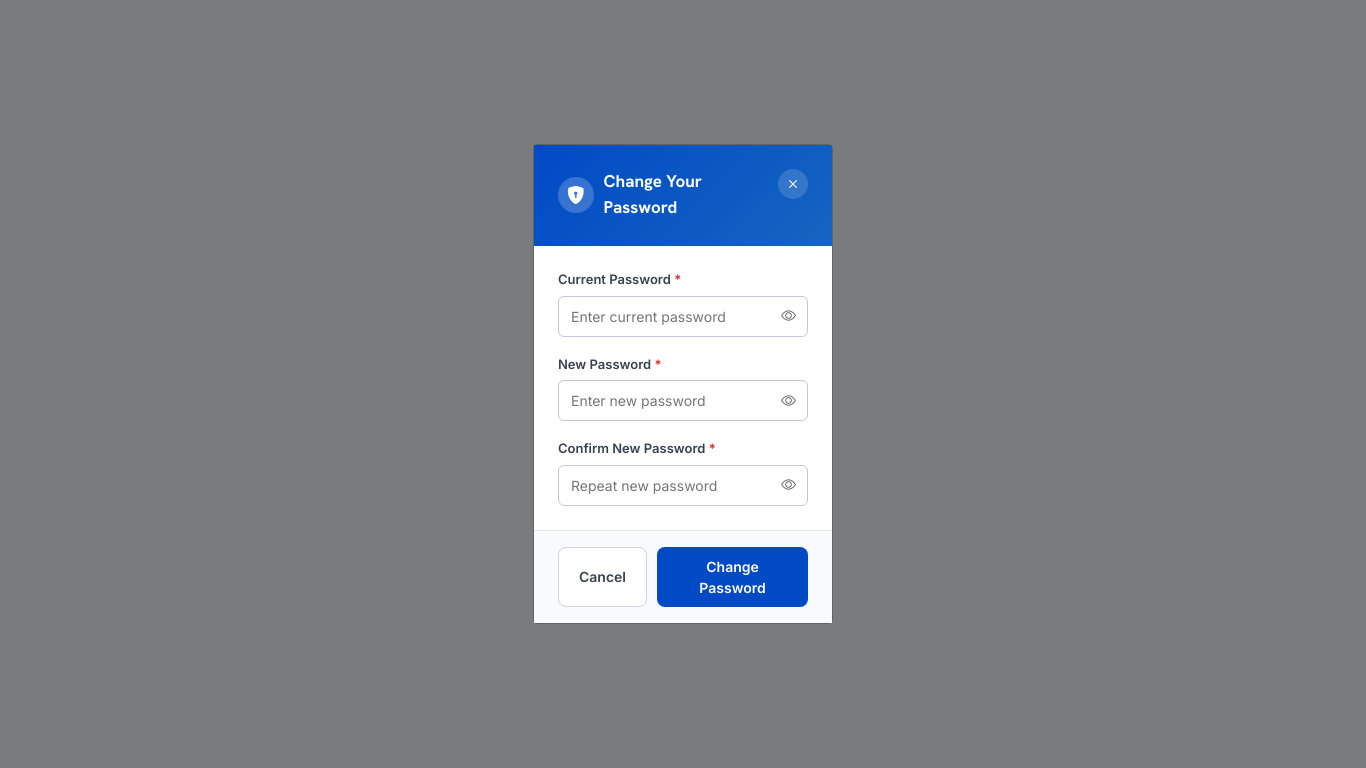
Scenario: ChangePasswordModal — self service › 401 (expired session) shows the server error instead of crashing
This screenshot has width=1366, height=768.
Type "old" into the password field with placeholder "Enter current password" at (683, 316), box x1=558 y1=296 x2=808 y2=337
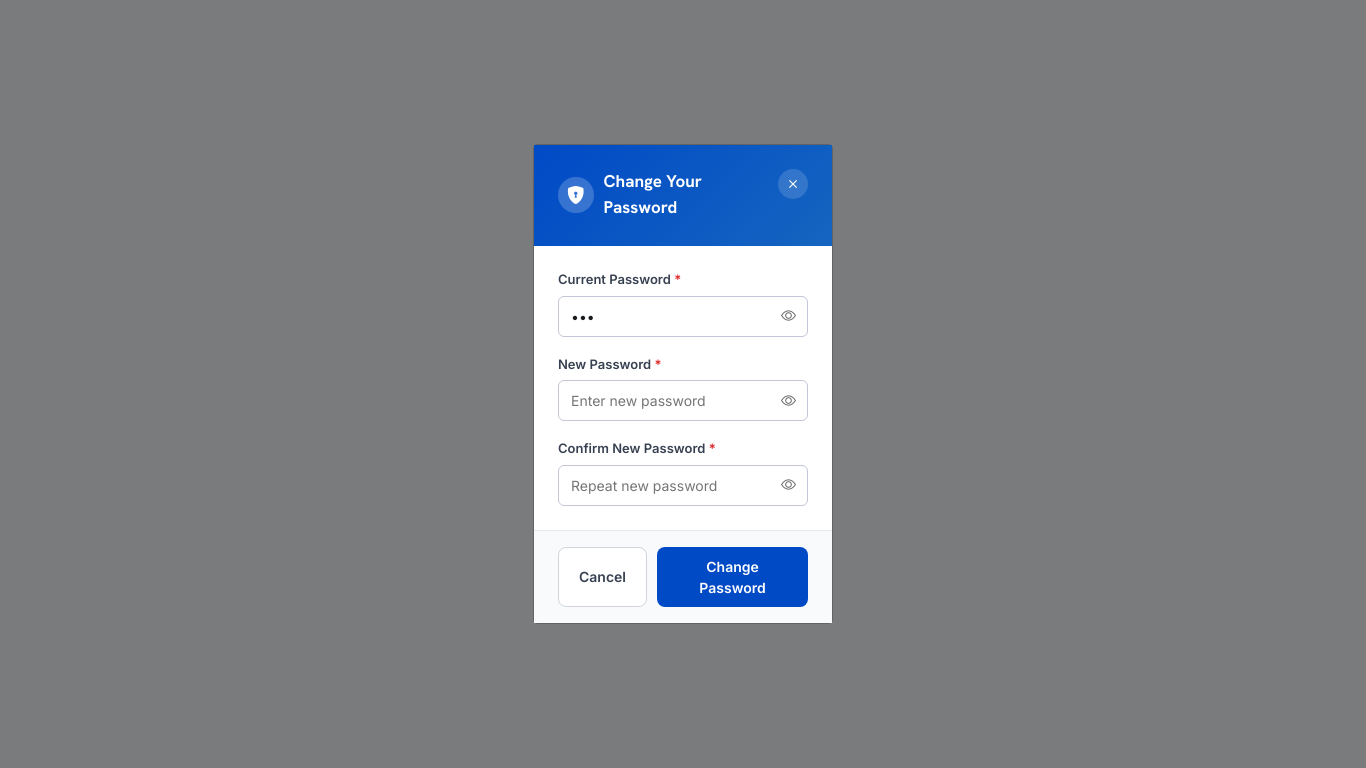
Type "NewPass1!" into the password field with placeholder "Enter new password" at (683, 401), box x1=558 y1=380 x2=808 y2=421
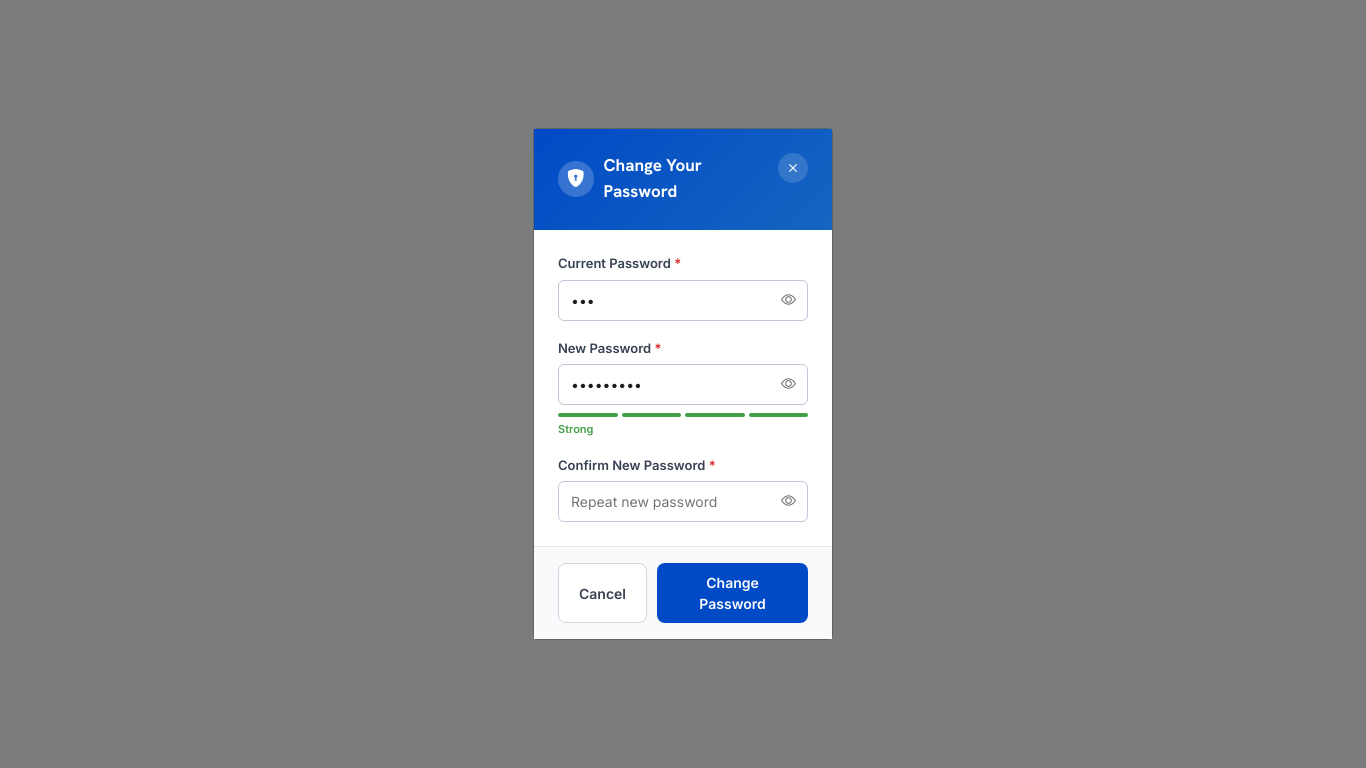
Type "NewPass1!" into the password field with placeholder "Repeat new password" at (683, 502), box x1=558 y1=481 x2=808 y2=522
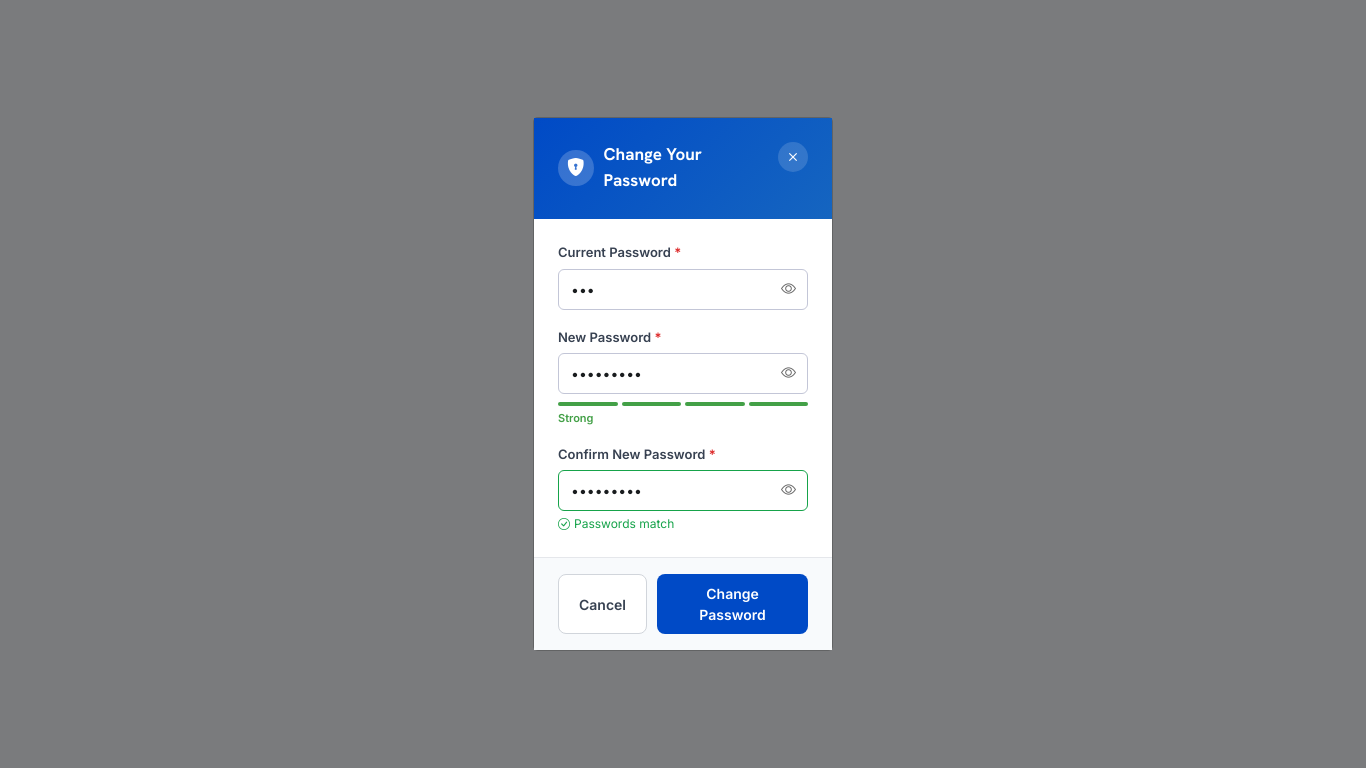
Click the button "Change Password" at (732, 604), box x1=657 y1=574 x2=808 y2=634
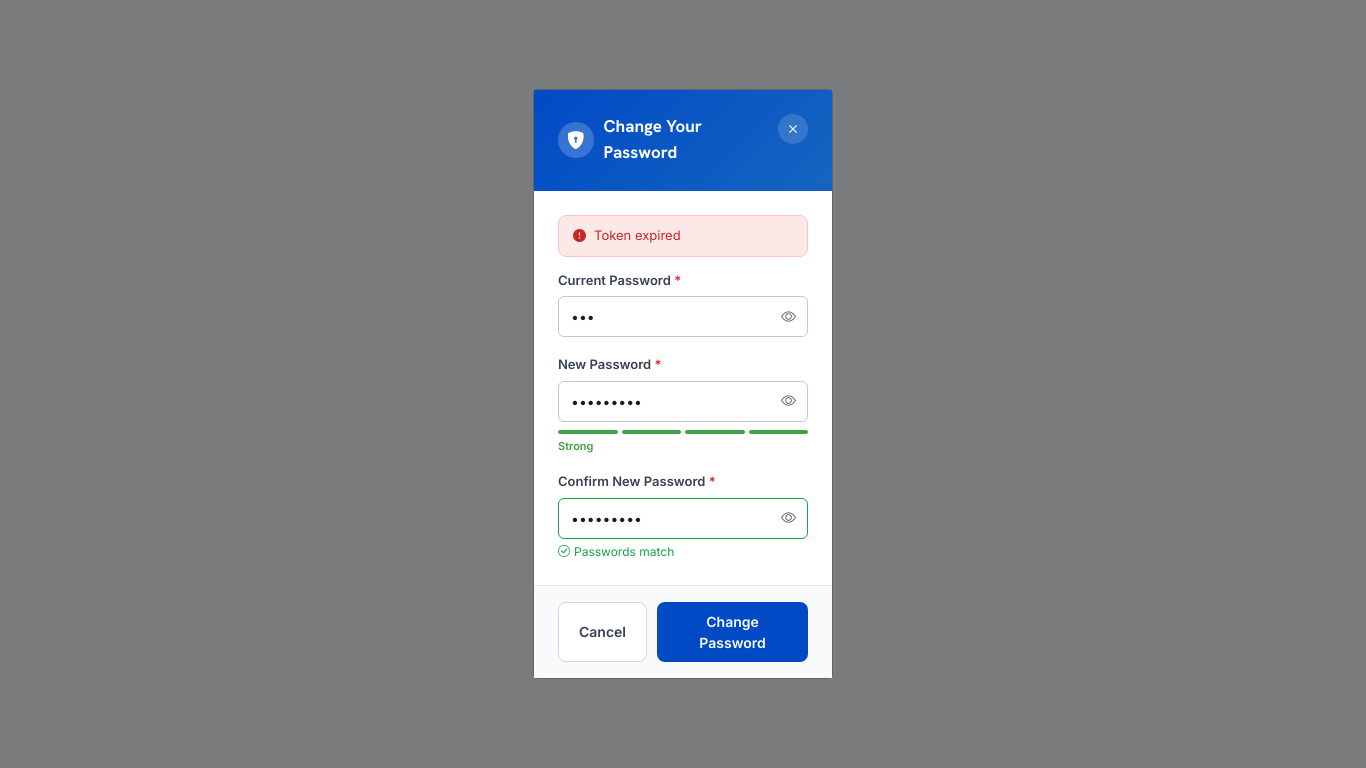
Expected: the text "Token expired" is shown, x1=558 y1=215 x2=808 y2=257
